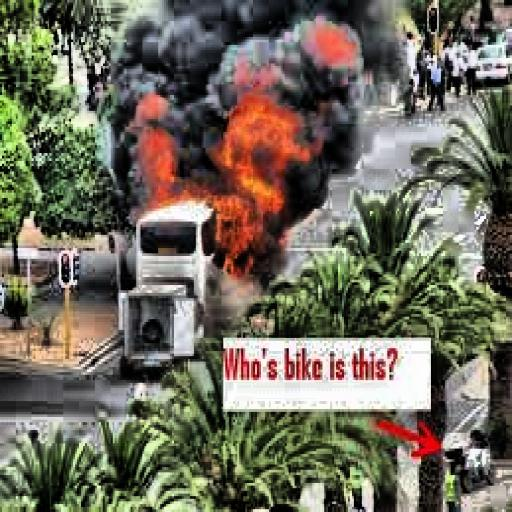fire: (124, 84, 306, 285)
